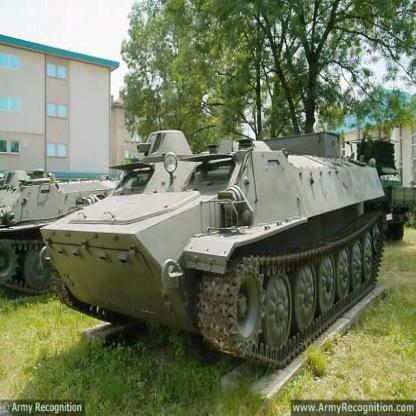MIL_IFV: (43, 131, 391, 369)
